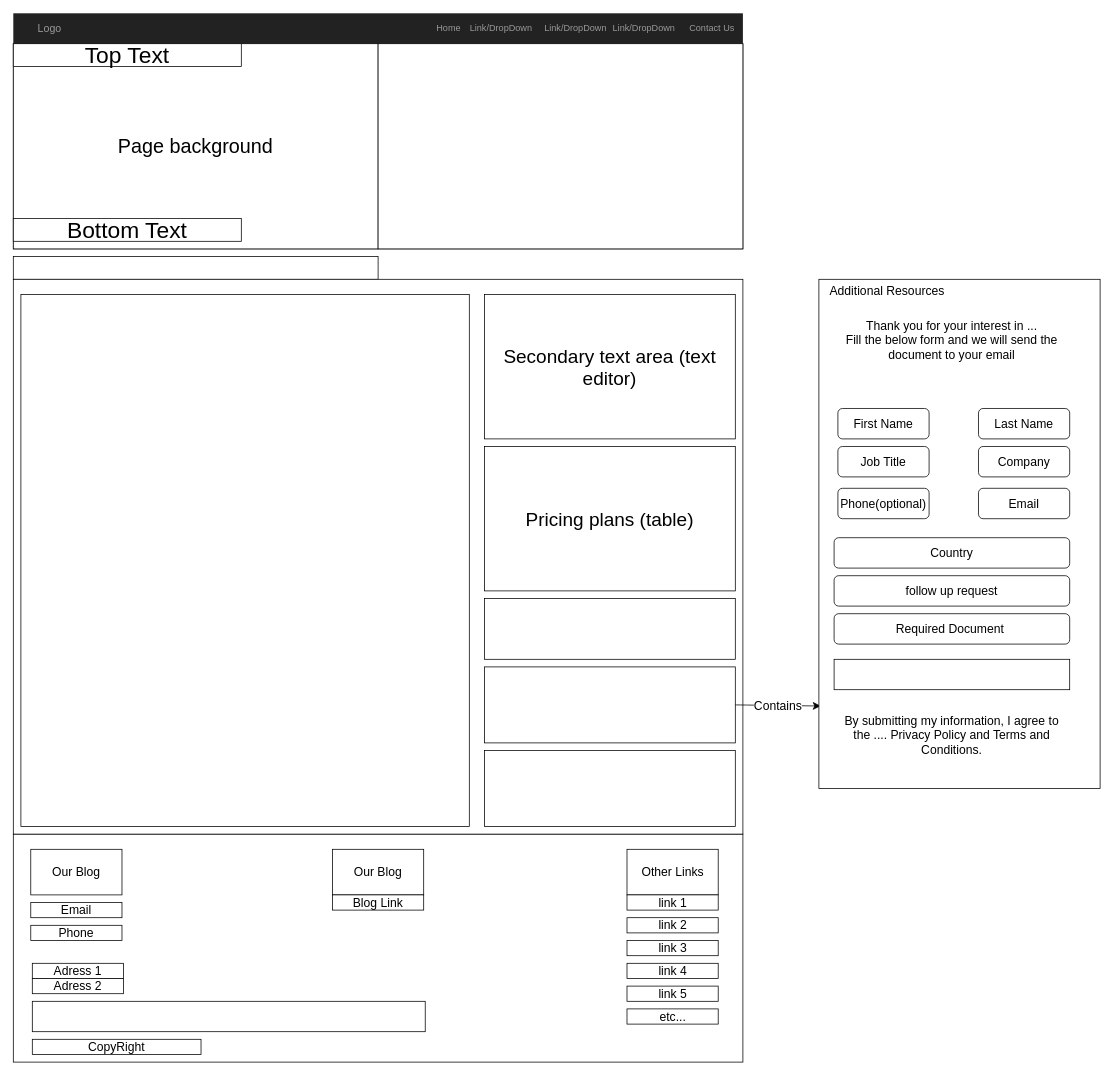
Some shapes in this 1113 by 1075 pixel diagram are drawn without their labels. The centre of each missing label's shape, as x and y in pixels:
Additional documents: (609,704)
Contact Email: (609,788)
Head line: (195,267)
Main text area (text editor): (244,560)
Page video/text editor: (560,146)
Send Button: (951,674)
Socials: (228,1016)
Sold By: (609,628)
